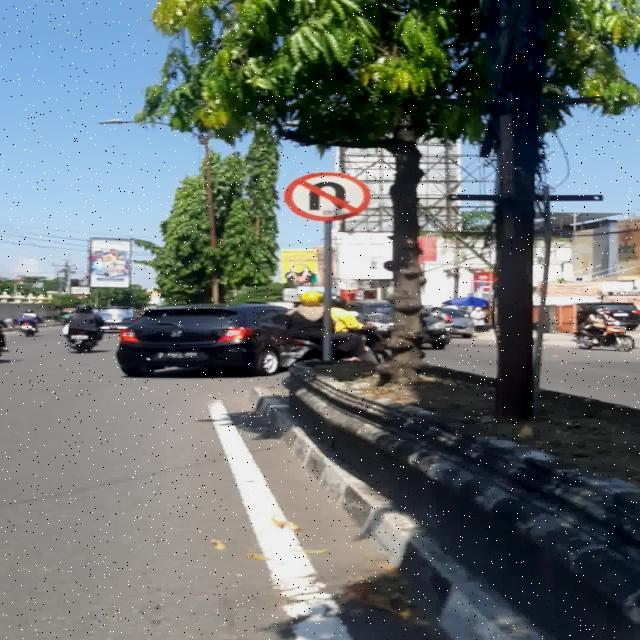Dilarang Putar Balik: (284, 172, 371, 221)
